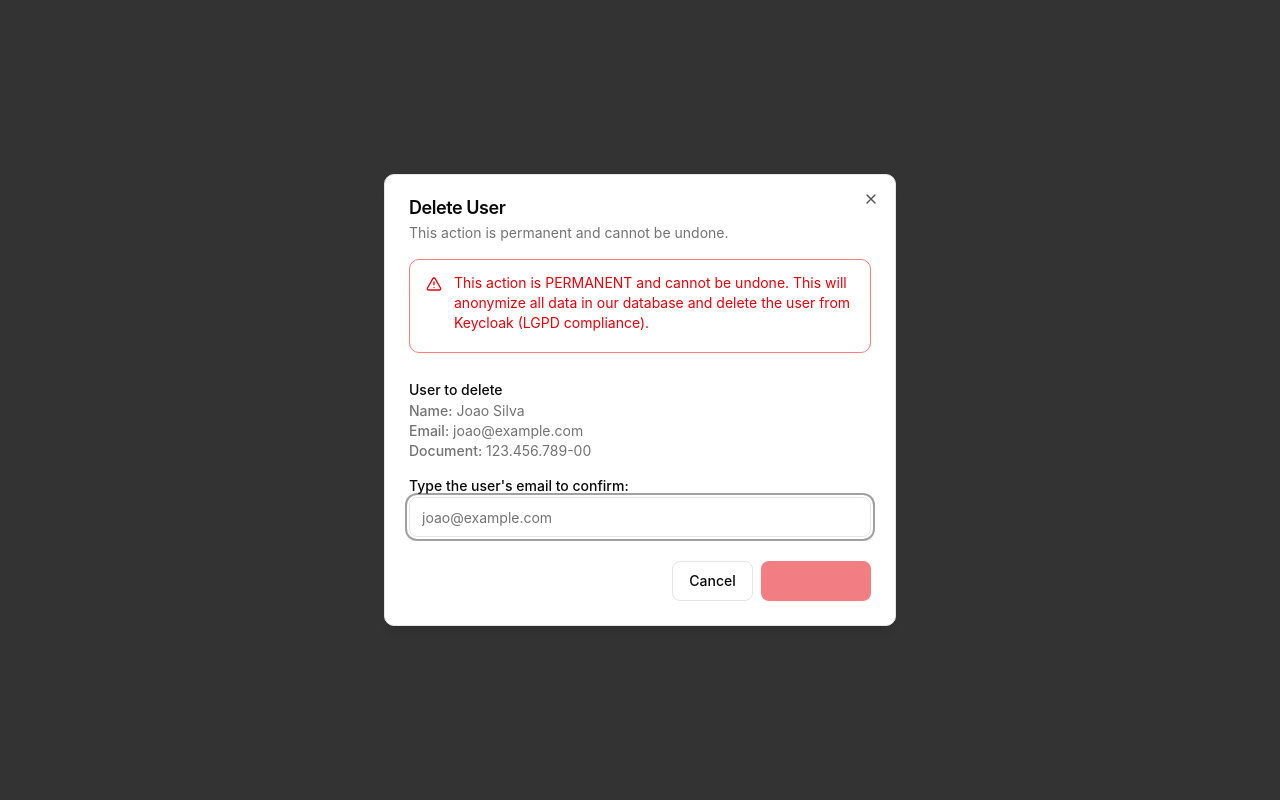
Test case: DeleteDialog › confirm button enabled when email matches (case-insensitive)
// Type exact email with different case
In the field with test id "email-confirm-input": x=640, y=517 [409,497,871,537], type "JOAO@EXAMPLE.COM"
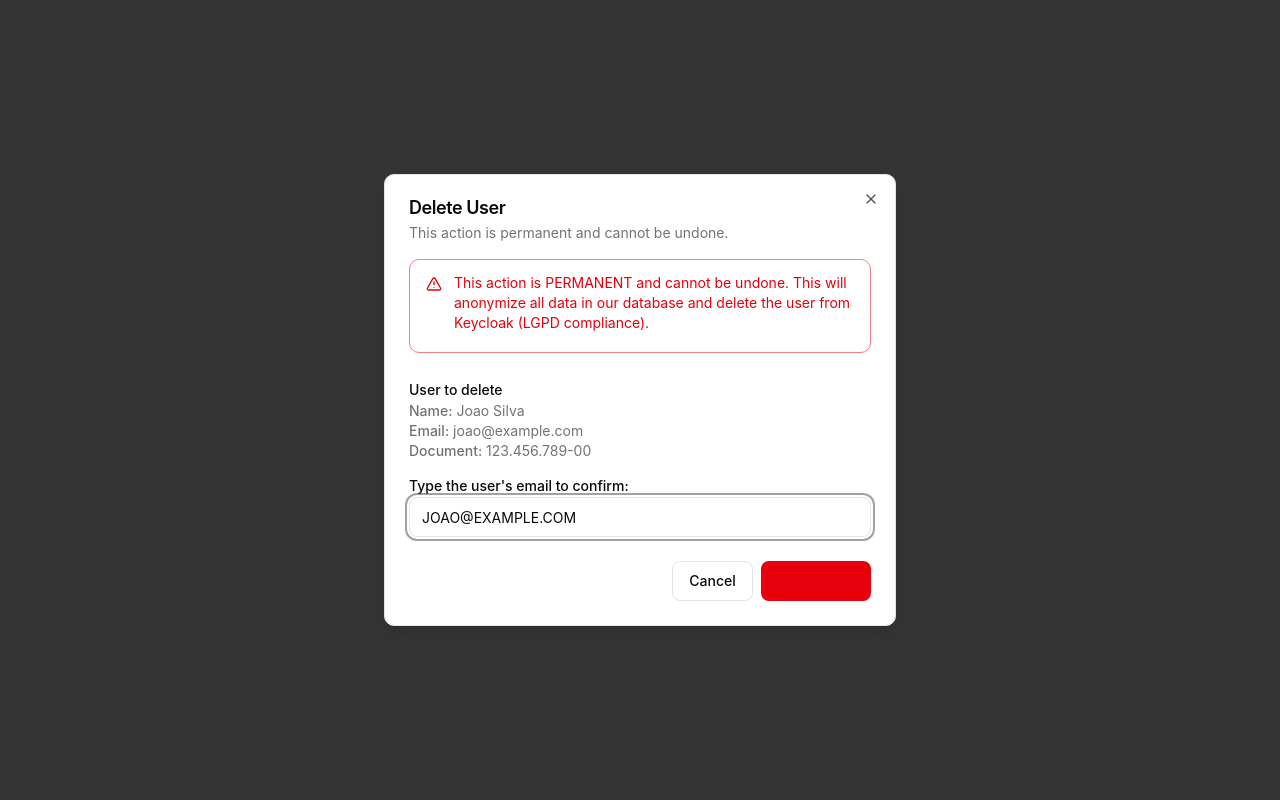
expect the button with test id "confirm-delete-button" is enabled: met, box [761,561,871,601]
